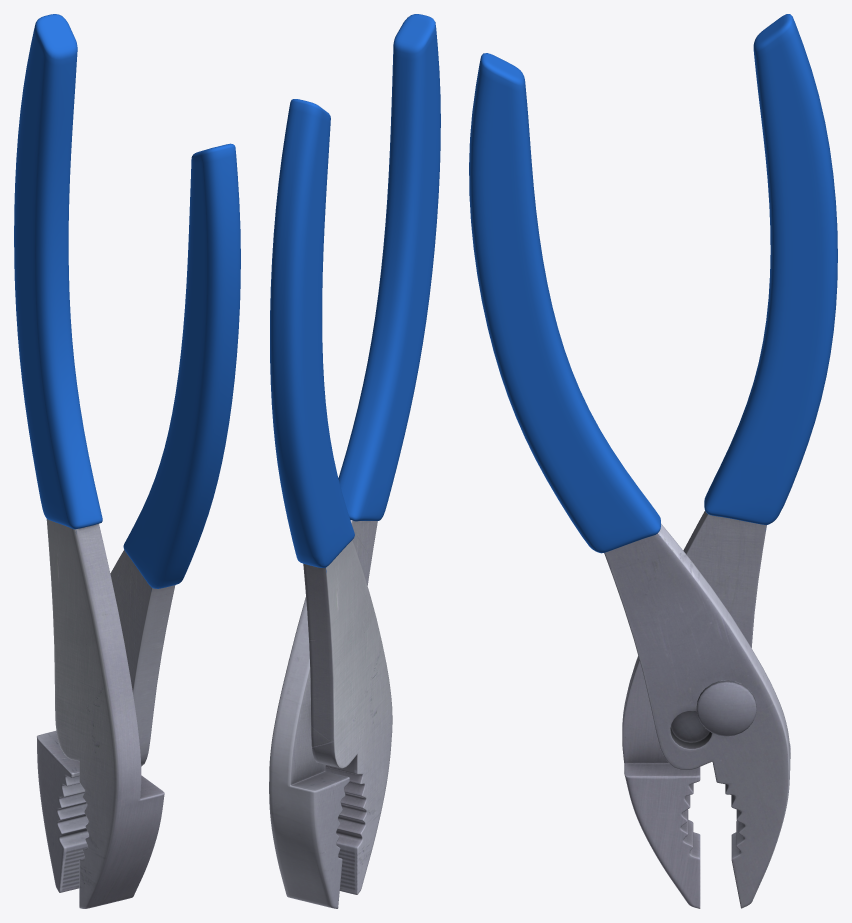
Rendered from 13070_Slip_Joint_Pliers_v1_L2.obj.
3 renders of one model, left to right at view 1: azimuth 30°, elevation 25°; view 2: azimuth 150°, elevation 25°; view 3: azimuth 270°, elevation 25°, orthographic. The views are drawn at different scales.
Parts seen in each view (by area): view 1: Slip_Joint_Pliers_Handle_2, Slip_Joint_Pliers_2, Slip_Joint_Pliers_Handle_1, Slip_Joint_Pliers_1; view 2: Slip_Joint_Pliers_Handle_1, Slip_Joint_Pliers_Handle_2, Slip_Joint_Pliers_2, Slip_Joint_Pliers_1; view 3: Slip_Joint_Pliers_Handle_1, Slip_Joint_Pliers_Handle_2, Slip_Joint_Pliers_1, Slip_Joint_Pliers_2, rivet.
Boxes of the visible parts, left/top/right/bottom form: Slip_Joint_Pliers_Handle_2: left=14, top=14, right=102, bottom=529; Slip_Joint_Pliers_2: left=46, top=519, right=164, bottom=908; Slip_Joint_Pliers_Handle_1: left=123, top=143, right=240, bottom=588; Slip_Joint_Pliers_1: left=37, top=550, right=175, bottom=892; Slip_Joint_Pliers_Handle_1: left=338, top=14, right=440, bottom=521; Slip_Joint_Pliers_Handle_2: left=270, top=99, right=354, bottom=567; Slip_Joint_Pliers_2: left=303, top=540, right=392, bottom=894; Slip_Joint_Pliers_1: left=269, top=520, right=377, bottom=908; Slip_Joint_Pliers_Handle_1: left=469, top=53, right=660, bottom=553; Slip_Joint_Pliers_Handle_2: left=704, top=14, right=837, bottom=524; Slip_Joint_Pliers_1: left=604, top=523, right=790, bottom=908; Slip_Joint_Pliers_2: left=622, top=510, right=766, bottom=908; rivet: left=696, top=680, right=756, bottom=736.
Bounding box in the file's own units: 1.18 × 15.26 × 5.84.
Materials: 2 (1 with a texture image).
